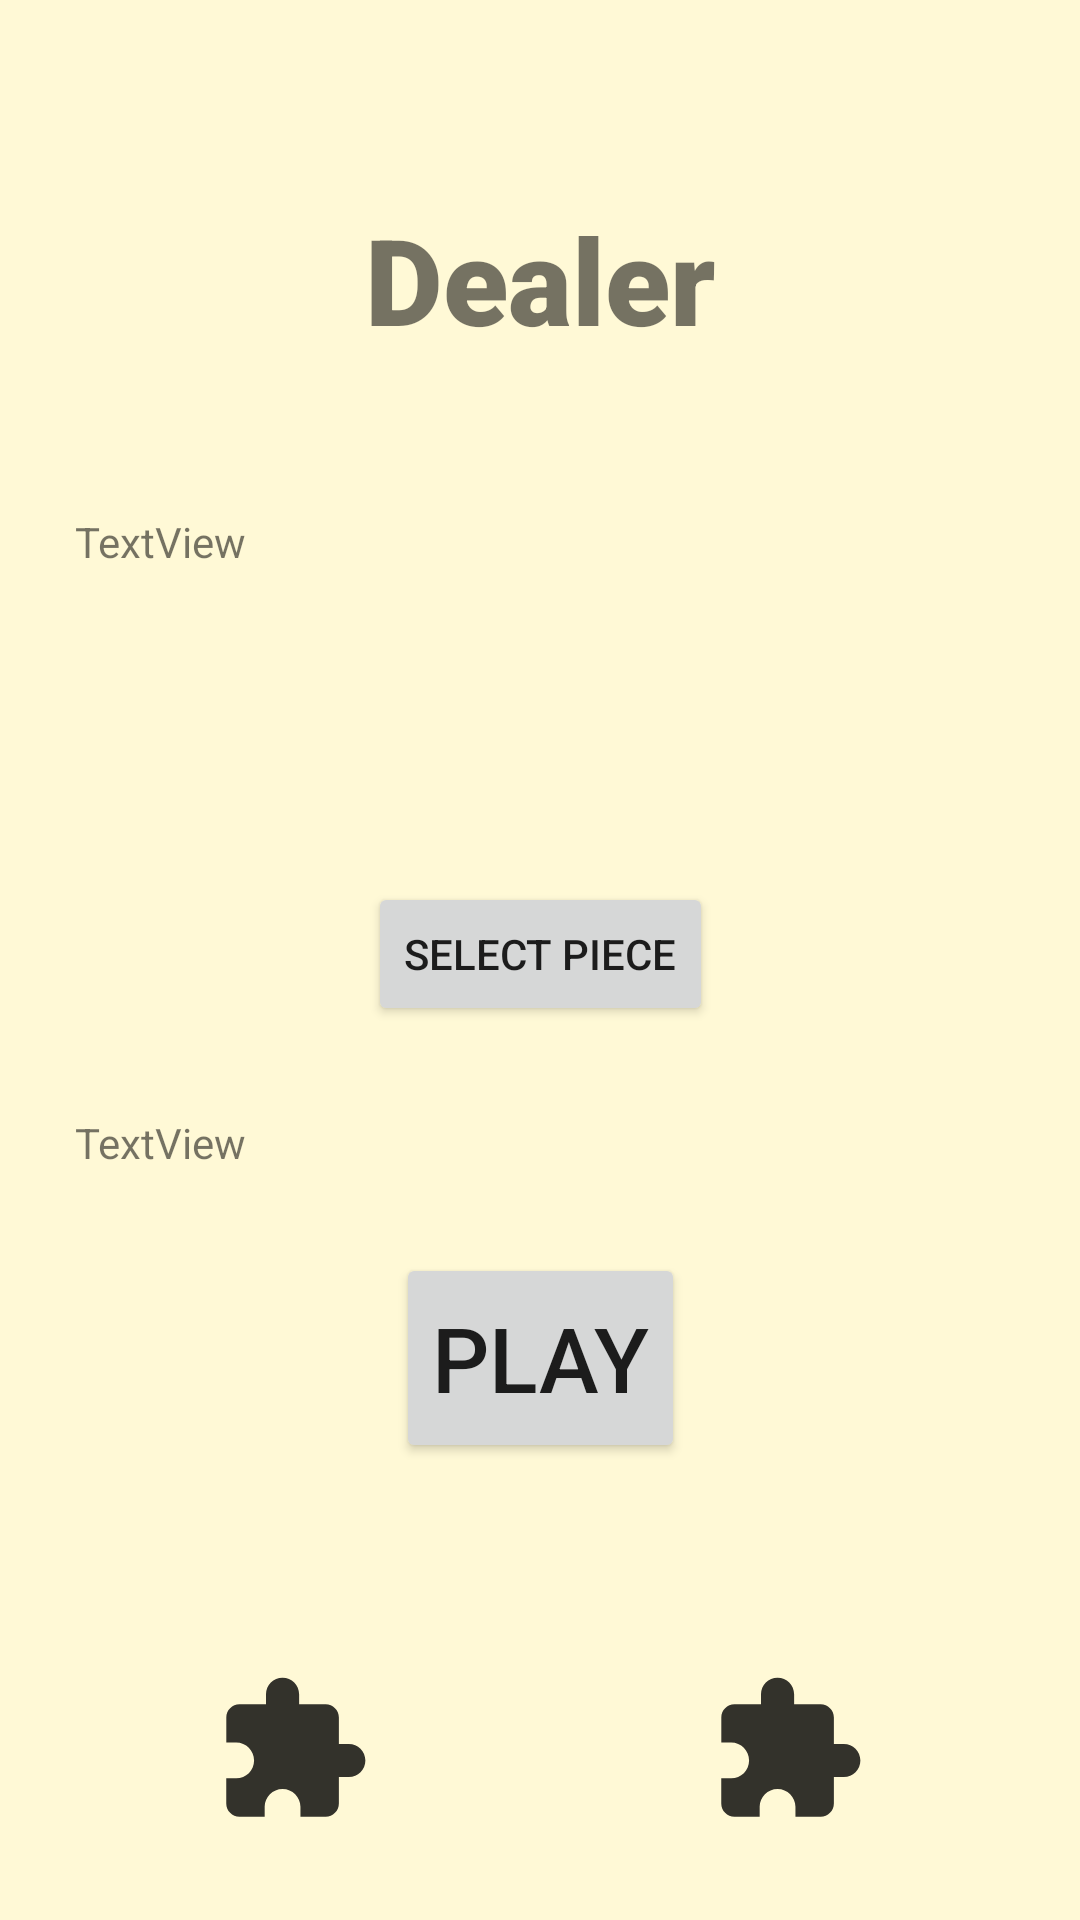

Screen size 1080 x 1920. Icon name, then its center in pixels as [x,y]:
piece: [296,1747], [791,1747]
